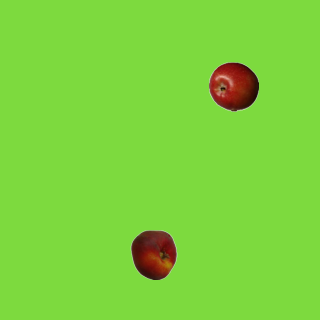Apple Braeburn: (208, 61, 258, 111)
Nectarine Flat: (128, 229, 178, 279)
